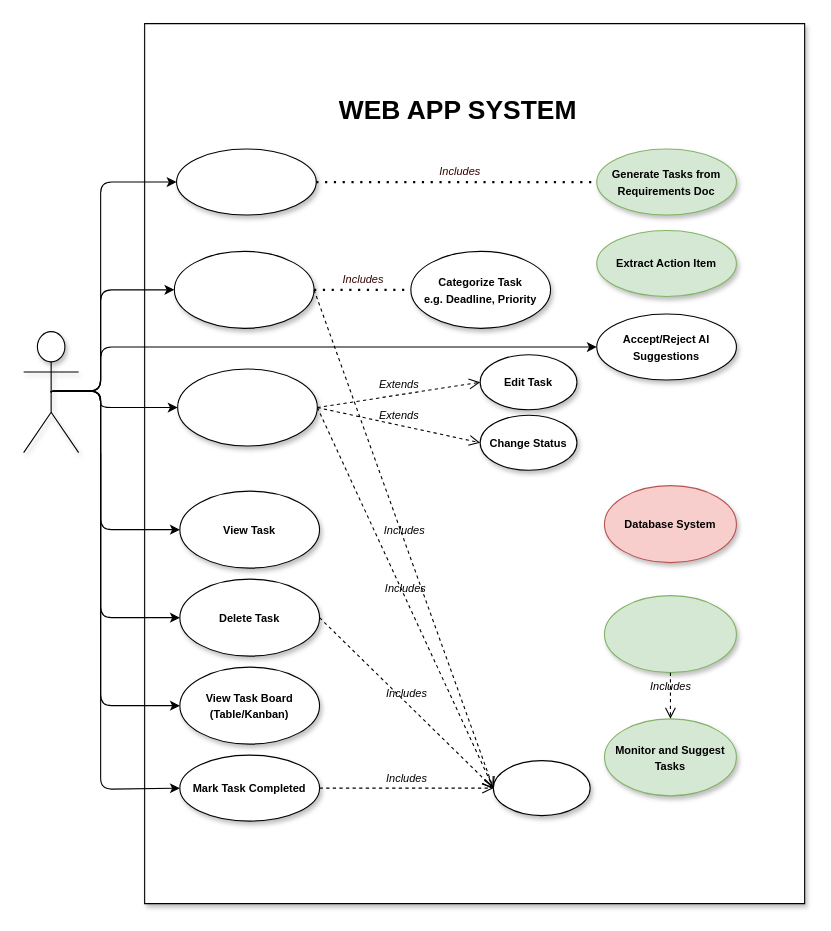
Image size: 831x931. Some labels were removed from this diagram. The centre of each missing label's shape, as x and y in pixels:
"Access Task Board Data" belongs at pixel 671 635.
"Developer" belongs at pixel 51 393.
"Log Activity" belongs at pixel 542 789.
"Manually Add Task" belongs at pixel 245 291.
"Update Task" belongs at pixel 248 409.
"Upload Requirements Document" belongs at pixel 247 183.
